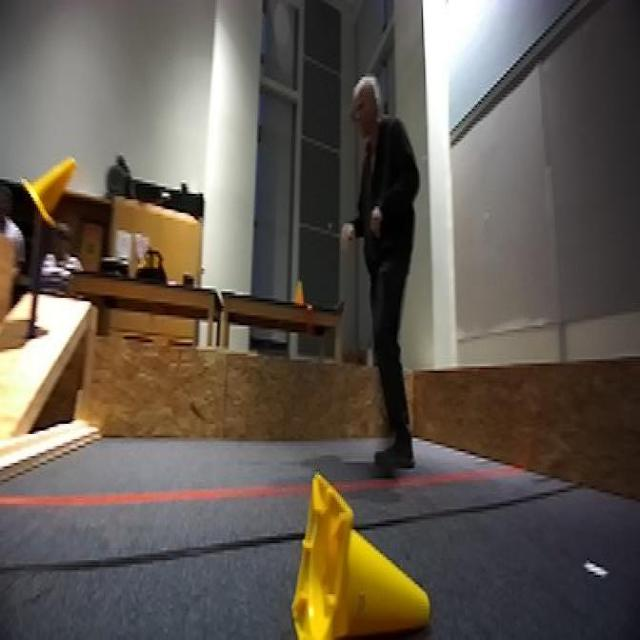frc_cone: (286, 470, 432, 640), (20, 150, 81, 231)
